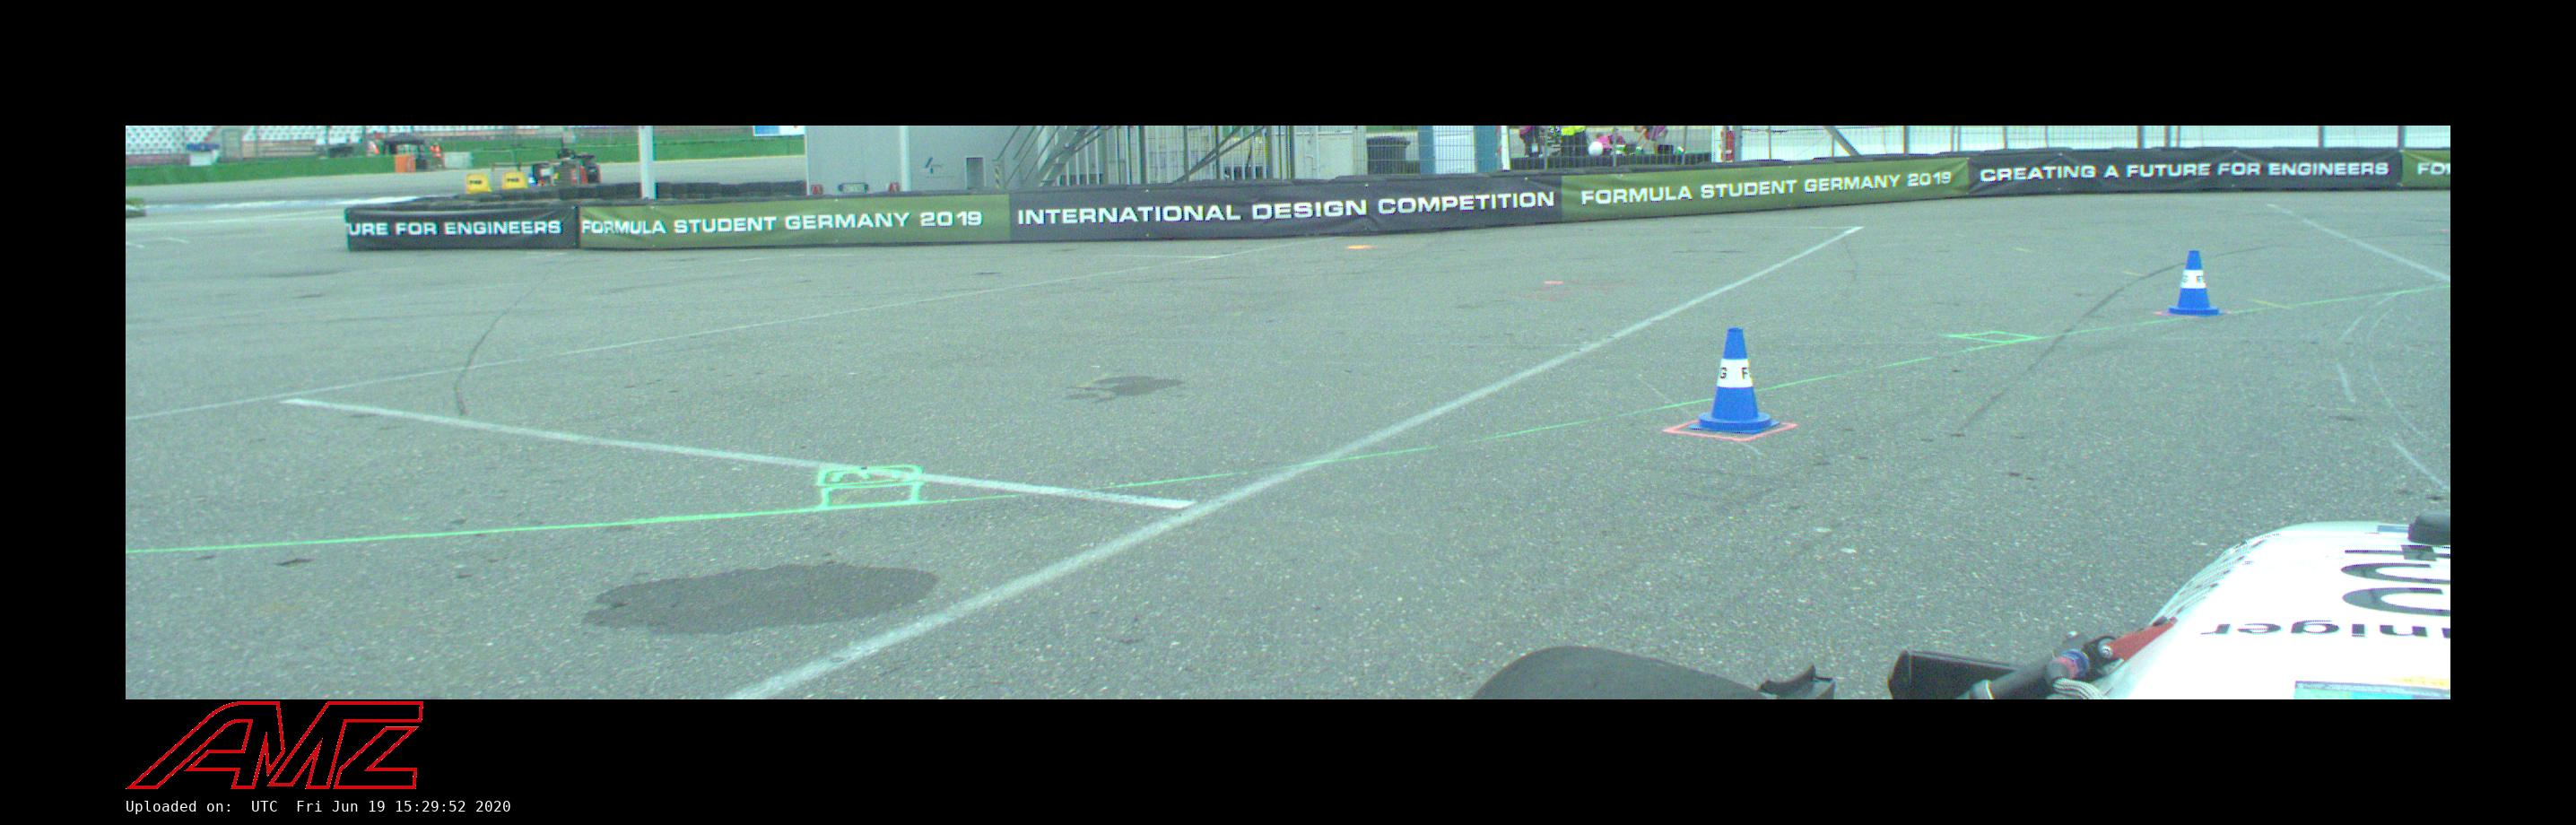blue_cone: (1687, 327, 1781, 434), (2162, 251, 2226, 316)
